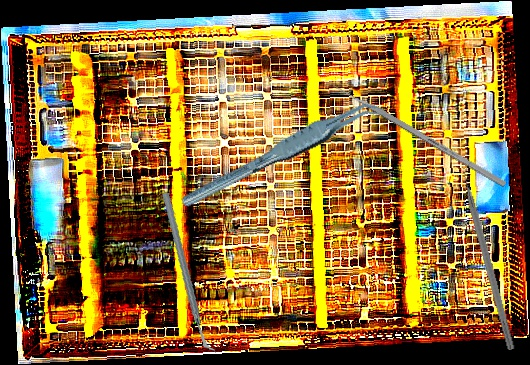Chopper: (138, 192, 240, 353), (457, 159, 526, 351)
Pusher: (323, 77, 507, 188)
Tissue Forceps: (171, 95, 395, 210)
